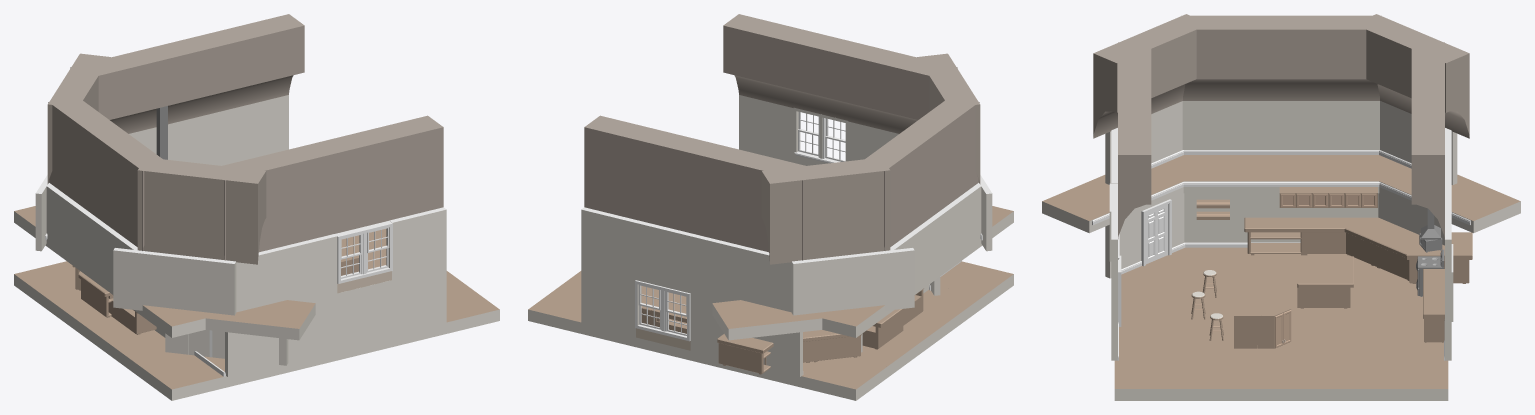
File: kitchen-base-mergedforrealthistime.glb
3 renders of one model, left to right at view 1: azimuth 30°, elevation 25°; view 2: azimuth 150°, elevation 25°; view 3: azimuth 270°, elevation 25°, orthographic. The views are drawn at different scales.
Visible parts, largest first — view 1: object1.210; view 2: object1.210; view 3: object1.210.
Part boxes in pixels (left/top/right/bottom): object1.210: left=14, top=14, right=499, bottom=400; object1.210: left=528, top=14, right=1013, bottom=400; object1.210: left=1042, top=14, right=1520, bottom=400.
Size of the model in its own units: 12.68 by 7.2 by 14.35.
